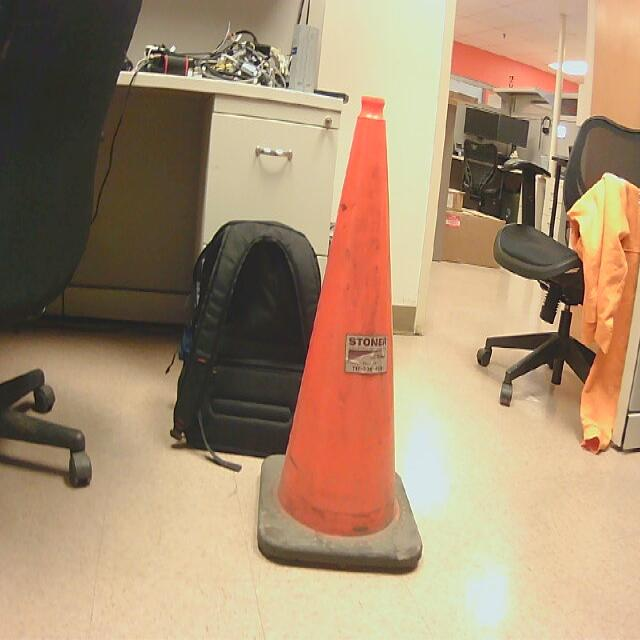traffic cone: (257, 97, 424, 580)
